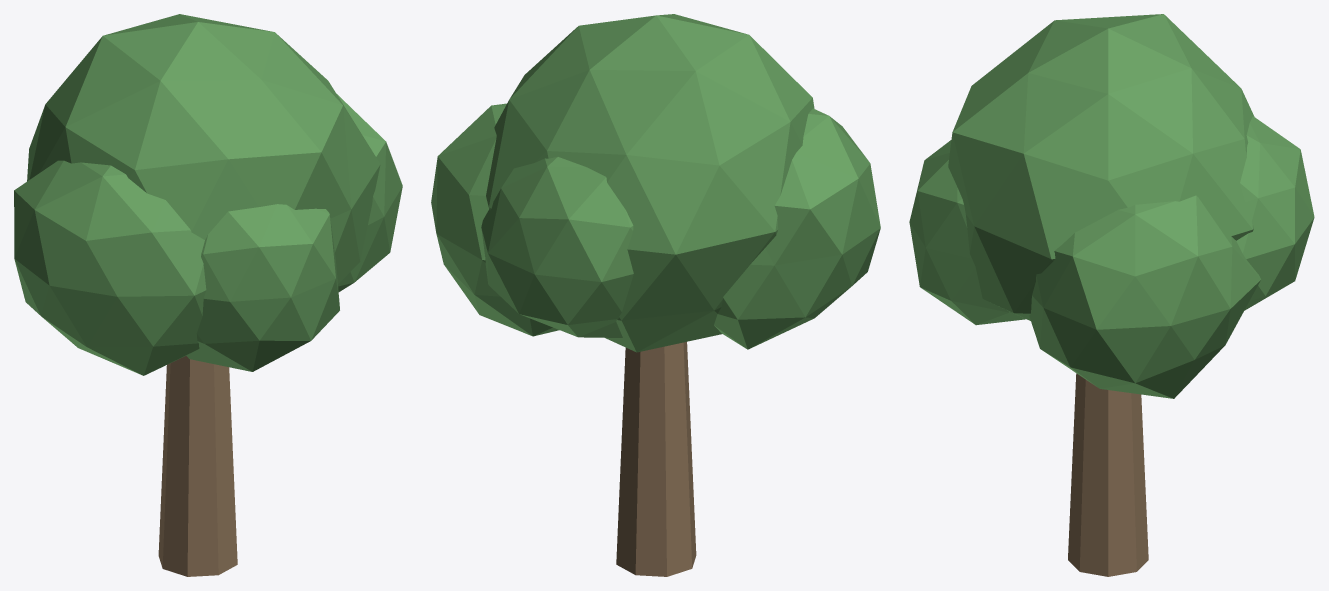
File: oak_tree.glb
3 views of the same model, side by side, from view 1: azimuth 30°, elevation 25°; view 2: azimuth 150°, elevation 25°; view 3: azimuth 270°, elevation 25° (orthographic). The views are drawn at different scales.
Parts seen in each view (by area): view 1: oak_tree; view 2: oak_tree; view 3: oak_tree.
Part boxes in pixels (x1,y1,x2,y2): oak_tree: (14,14,402,576); oak_tree: (431,14,880,576); oak_tree: (909,14,1314,576).
Bounding box in the file's own units: 4.87 × 6.52 × 4.51.
